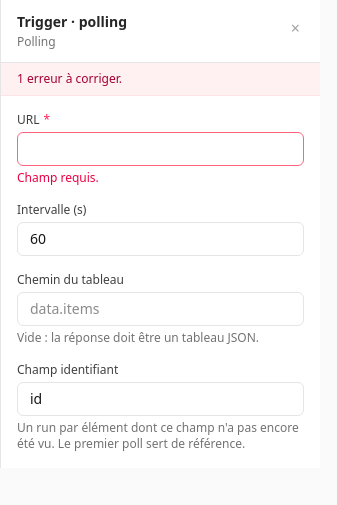
Test: <NodePanel /> — F8.4.b : validation & defaults › respecte la borne min sur un number (polling.interval_seconds)
The image size is (337, 505).
Replace the text in the number field labelled "Intervalle (s)" with "2". click: (160, 239)
box: [17,222,304,256]
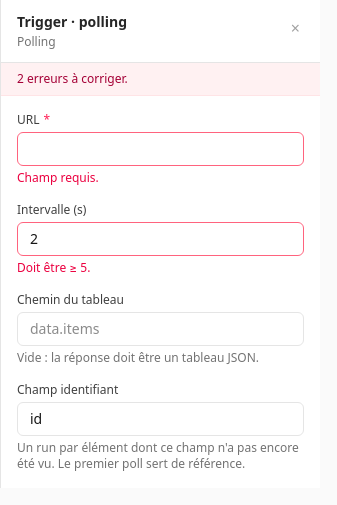
Expected: the message with test id "error-interval_seconds" shows "≥ 5", [17,259,90,276]
